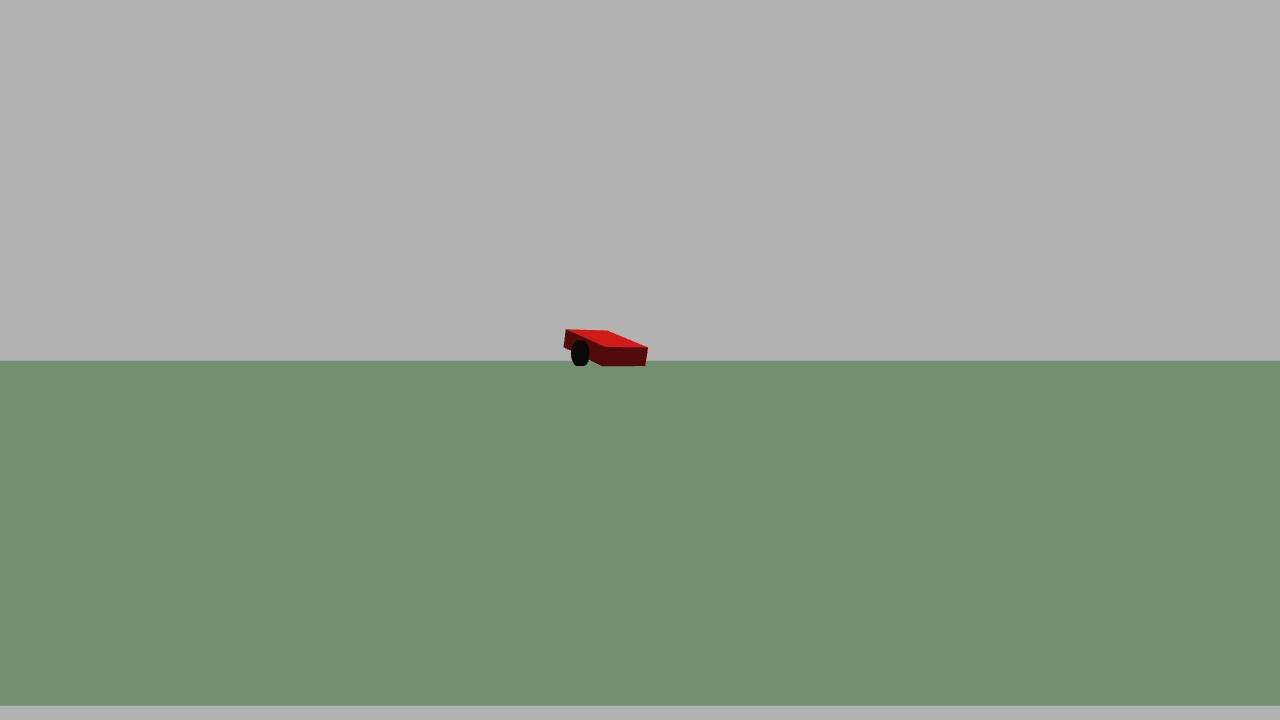ground_vehicle: (561, 322, 654, 373)
